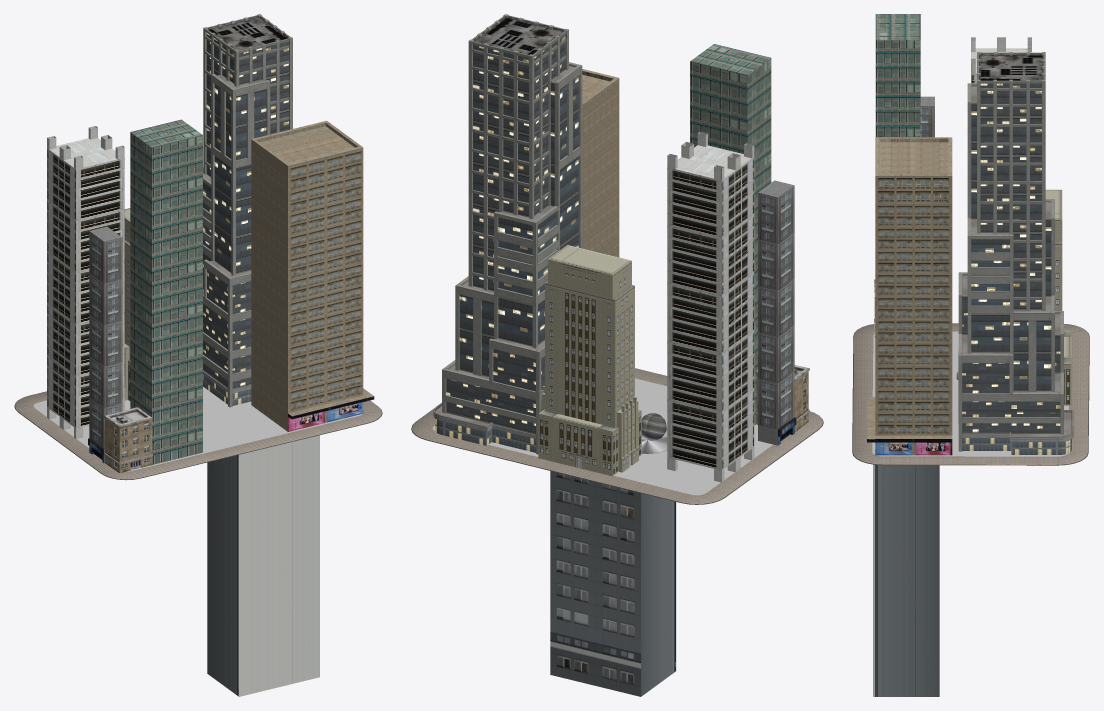
File: manzana3020.FBX
3 renders of one model, left to right at view 1: azimuth 30°, elevation 25°; view 2: azimuth 150°, elevation 25°; view 3: azimuth 270°, elevation 25°, orthographic. The views are drawn at different scales.
Visible parts, largest first — view 1: edificio30001, Box149, edificio30002, Object001g001, obra004, Box150, Loft005, estacionamiento, edificio30003, edificio30004; view 2: Object001g001, obra004, Box149, edificio30004, Box150, edificio30002, edificio30001, Loft005, estacionamiento, edificio30003; view 3: Object001g001, edificio30001, Box149, Loft005, edificio30002, estacionamiento, edificio30004, obra004, Box150.
Part boxes in pixels (<box>): edificio30001: <box>251,120,374,431</box>; Box149: <box>207,435,319,696</box>; edificio30002: <box>130,119,202,464</box>; Object001g001: <box>203,14,292,407</box>; obra004: <box>47,126,124,438</box>; Box150: <box>88,226,122,463</box>; Loft005: <box>14,391,382,480</box>; estacionamiento: <box>33,387,362,471</box>; edificio30003: <box>104,407,152,473</box>; edificio30004: <box>124,208,130,401</box>; Object001g001: <box>433,14,582,454</box>; obra004: <box>667,131,754,482</box>; Box149: <box>550,471,676,696</box>; edificio30004: <box>538,245,641,476</box>; Box150: <box>758,180,796,445</box>; edificio30002: <box>690,44,771,425</box>; edificio30001: <box>582,69,619,257</box>; Loft005: <box>411,368,823,504</box>; estacionamiento: <box>432,378,772,495</box>; edificio30003: <box>755,365,809,432</box>; Object001g001: <box>958,52,1073,454</box>; edificio30001: <box>867,137,952,455</box>; Box149: <box>873,464,939,696</box>; Loft005: <box>852,323,1089,465</box>; edificio30002: <box>875,14,920,137</box>; estacionamiento: <box>872,331,1068,456</box>; edificio30004: <box>1045,189,1071,405</box>; obra004: <box>971,37,1031,83</box>; Box150: <box>920,96,934,137</box>.
Size of the model in its own units: 4014 by 8266 by 2837.
